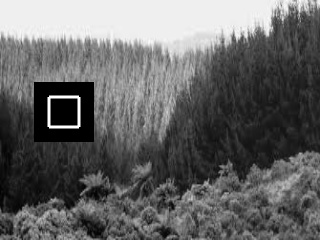square: (34, 82, 95, 142)
